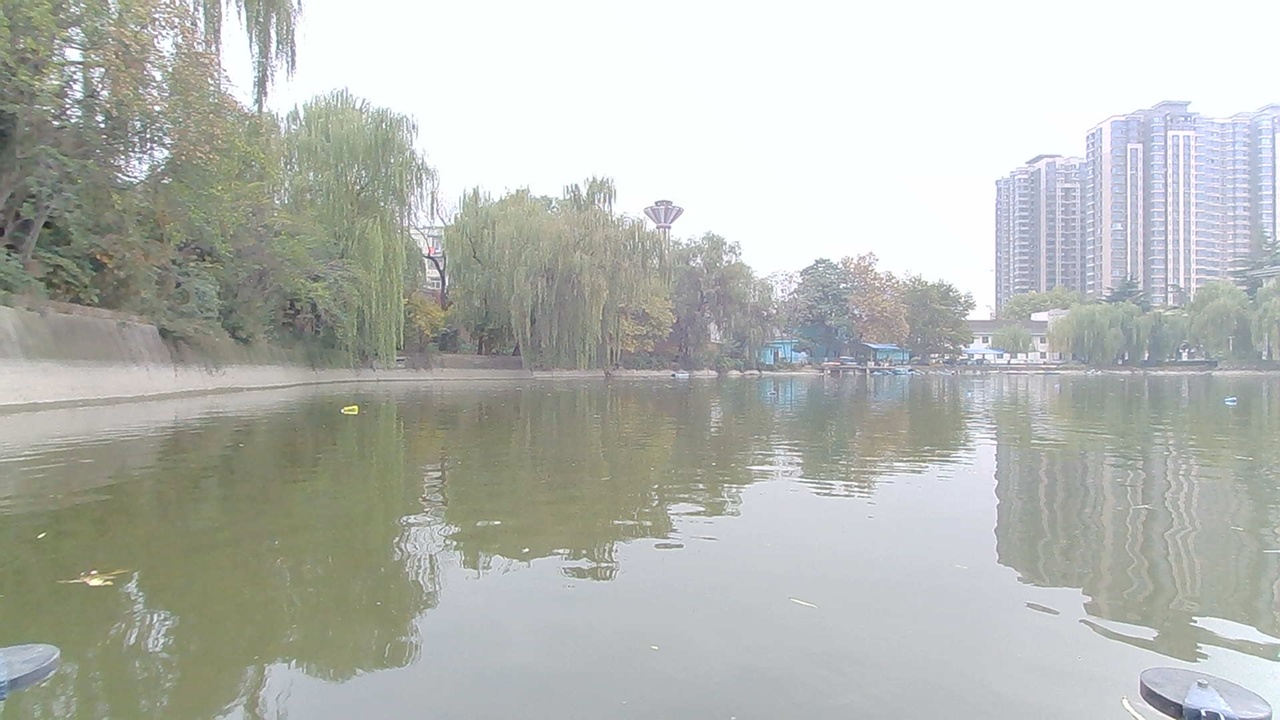bottle: (333, 397, 367, 420), (1218, 394, 1249, 417), (760, 387, 789, 402)
